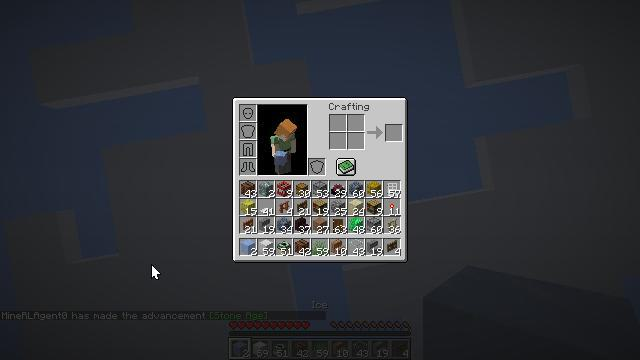cursor: (151, 264, 161, 280)
